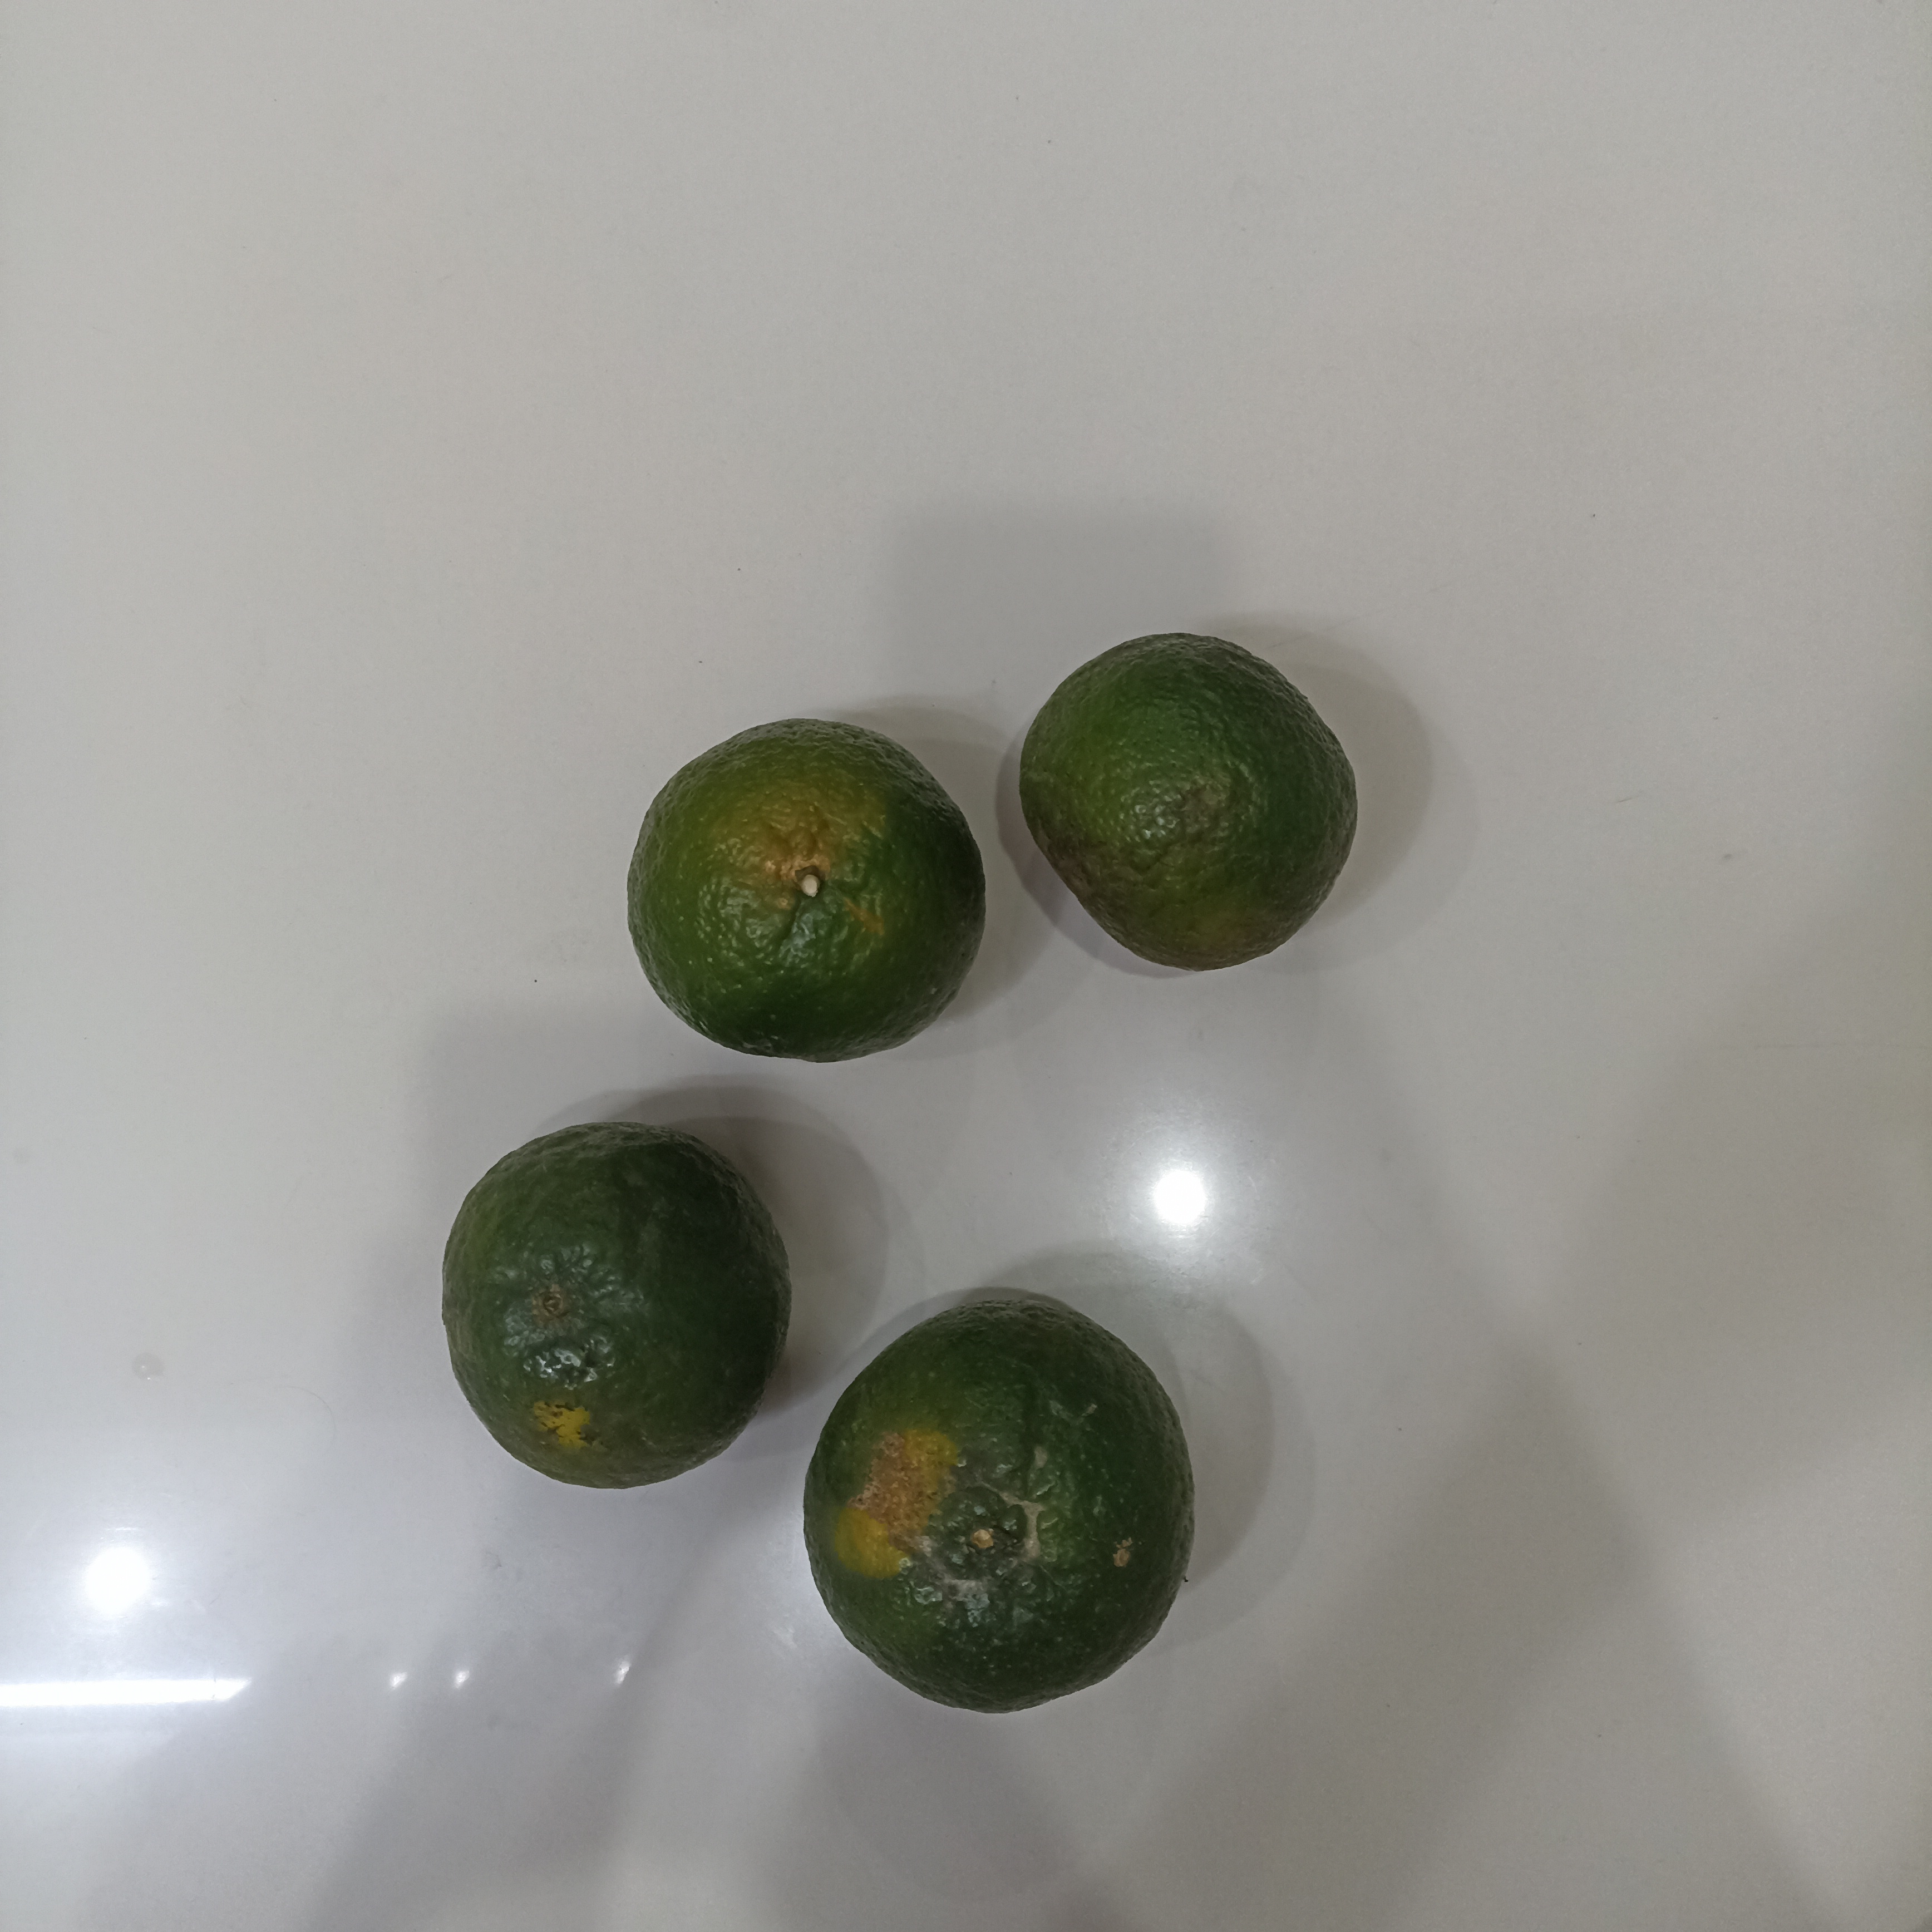Cam: (801, 1300, 1198, 1714), (439, 1125, 794, 1491), (619, 717, 991, 1058), (1016, 628, 1361, 975)
